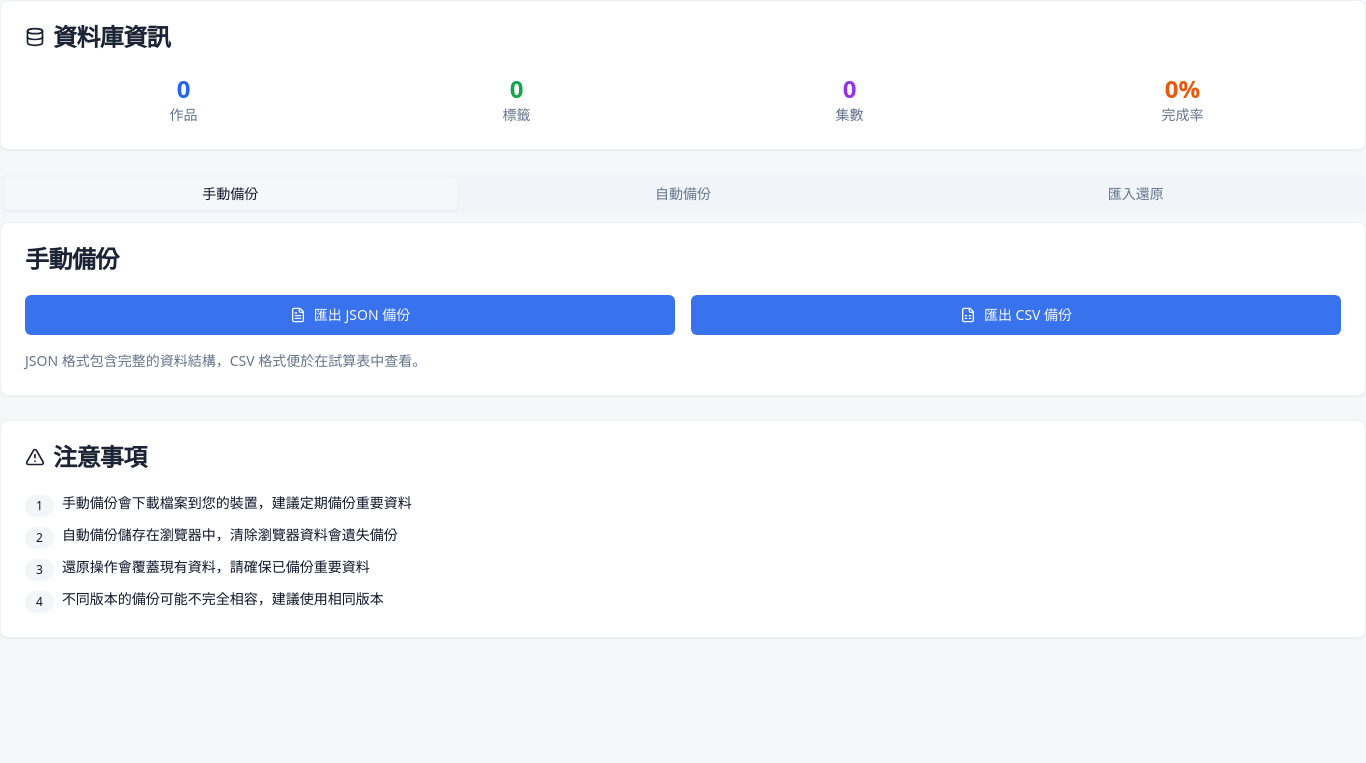
it: BackupRestore component › confirms auto-backup restore with an inline dialog
Click the tab "自動備份". click: (683, 194)
box: [457,178,909,210]
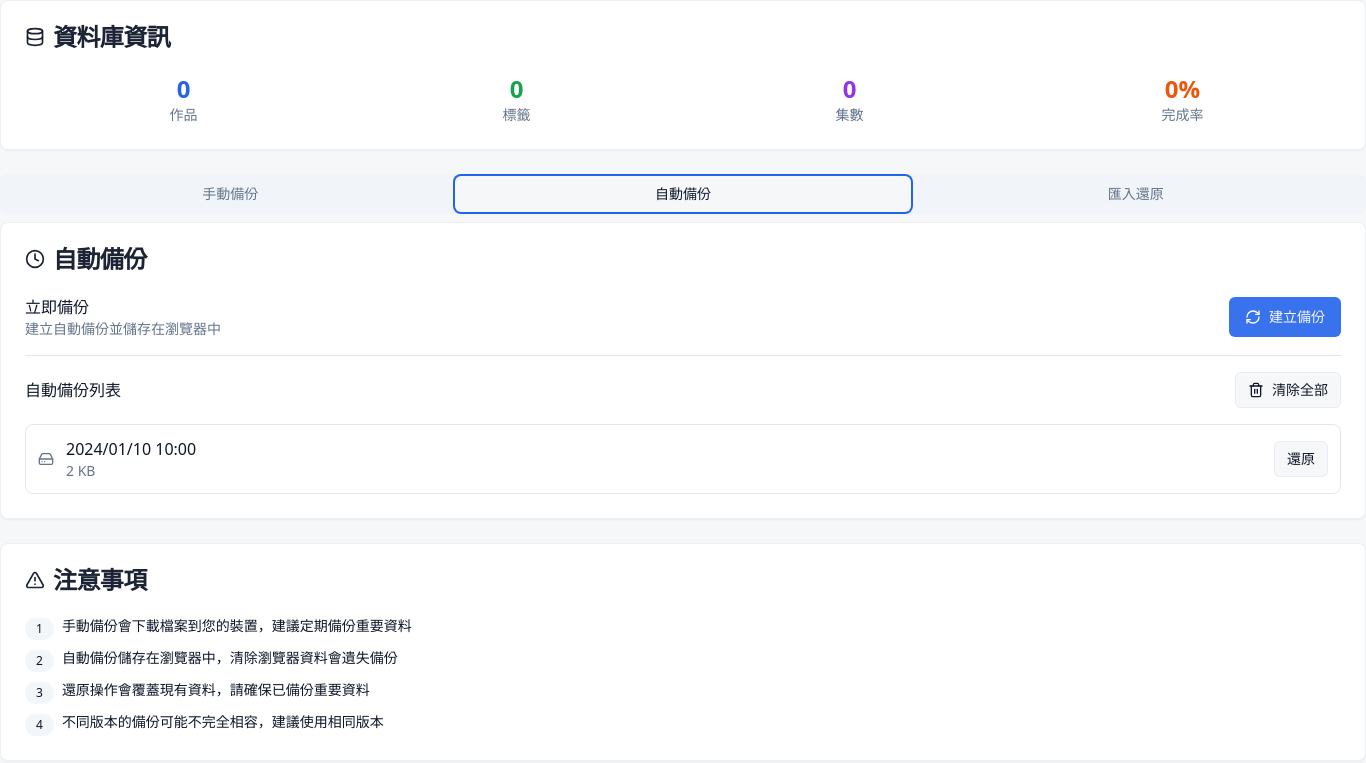
Click the button "還原". click: (1301, 459)
box: [1274,441,1328,477]
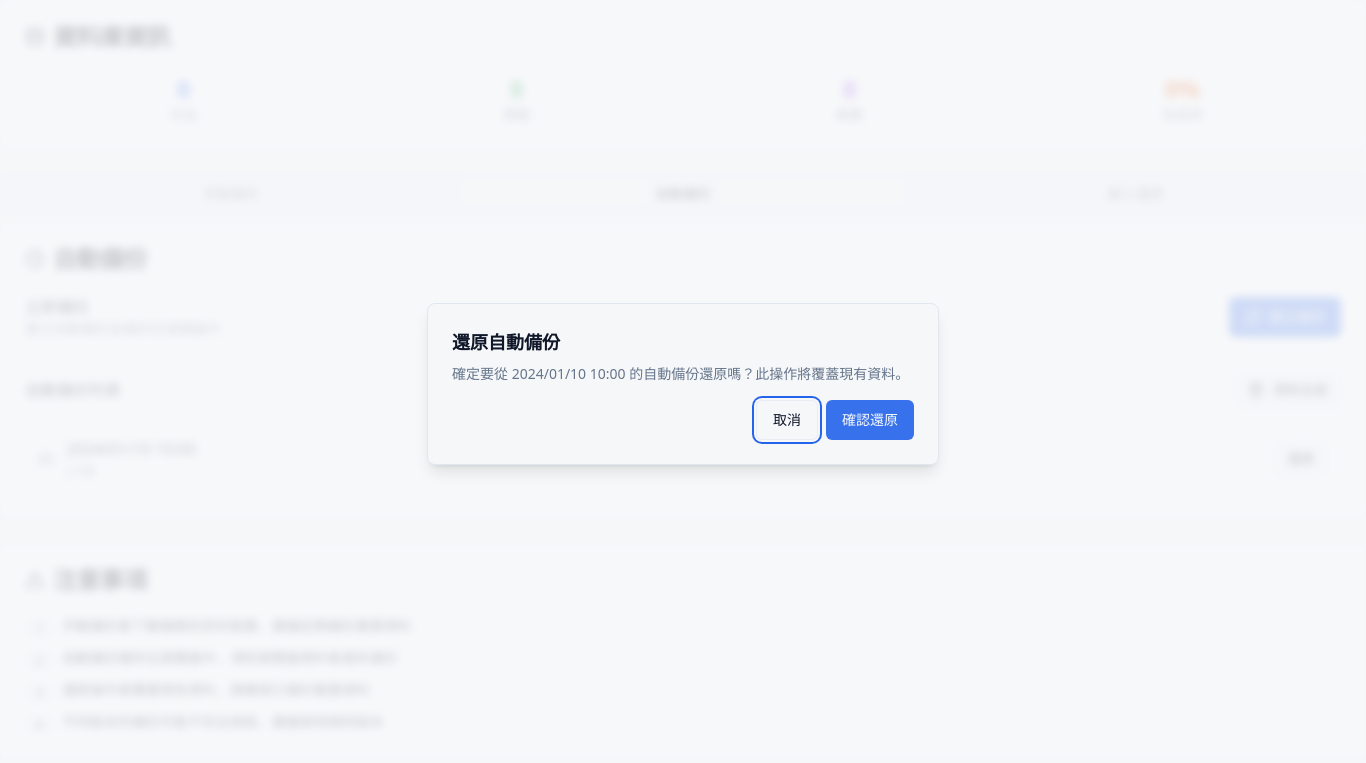
Result: the dialog "還原自動備份" is shown at [427,303,939,465]
Click the button "確認還原". click: (870, 420)
box: [826,400,914,440]
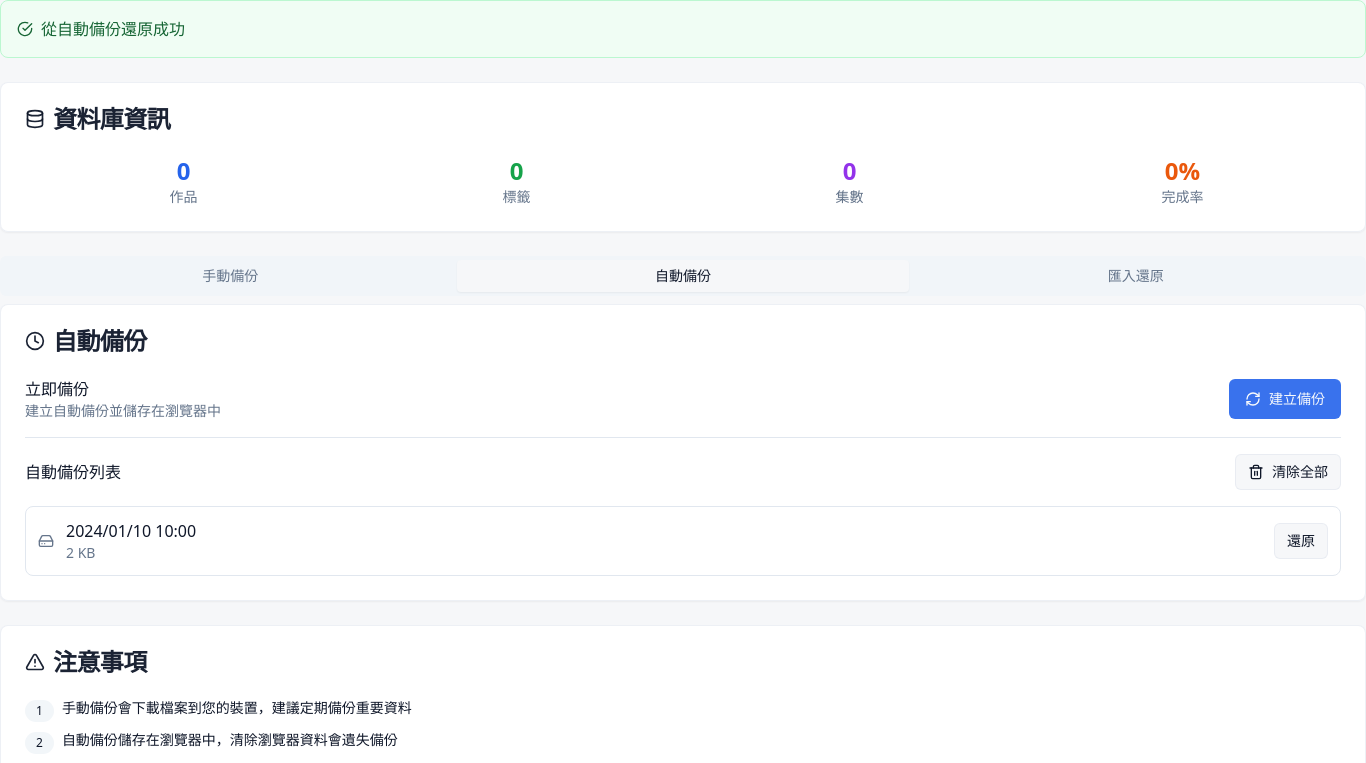
Result: the text "從自動備份還原成功" is shown at [41,17,185,41]
